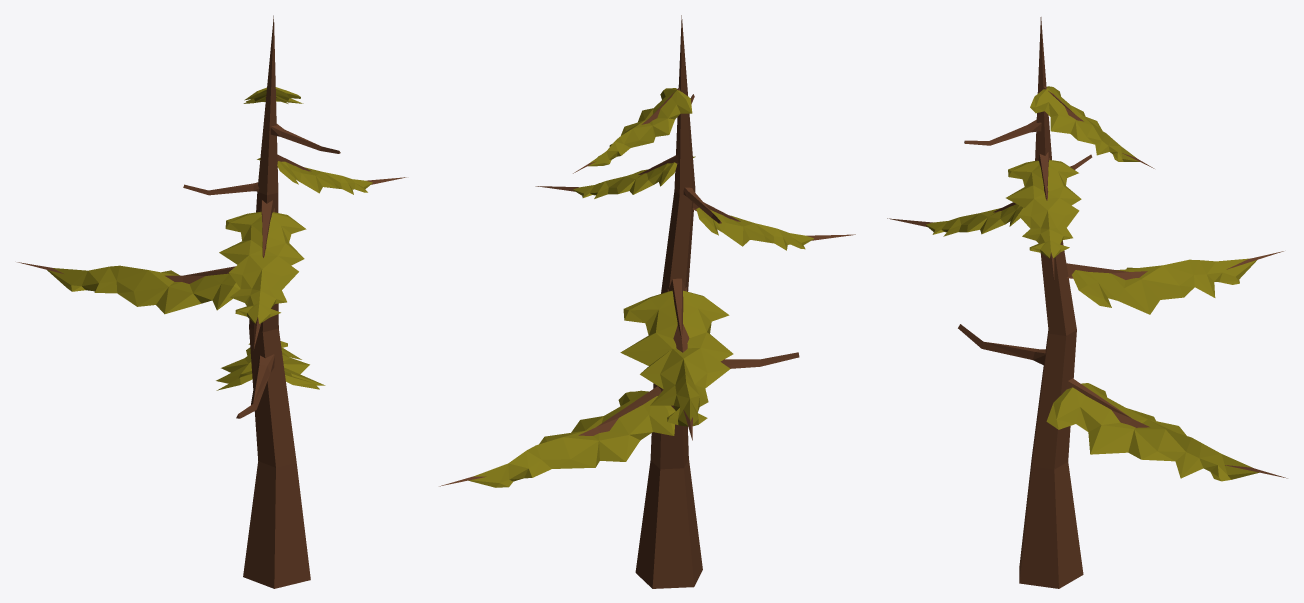
Rendered from FirTree3.fbx.
3 renders of one model, left to right at view 1: azimuth 30°, elevation 25°; view 2: azimuth 150°, elevation 25°; view 3: azimuth 270°, elevation 25°, orthographic.
Parts seen in each view (by area): view 1: FirTree3; view 2: FirTree3; view 3: FirTree3.
Part boxes in pixels (<box>): FirTree3: <box>17,15,406,588</box>; FirTree3: <box>439,15,855,588</box>; FirTree3: <box>887,17,1287,588</box>.
Size of the model in its own units: 190 by 370 by 243.
